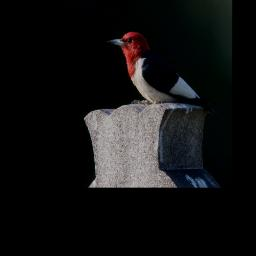Woodpecker: (104, 29, 220, 120)
